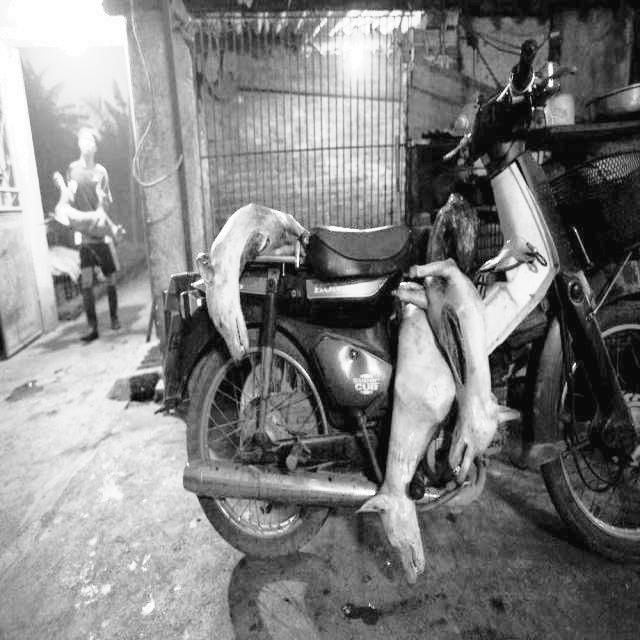Motorcycle: (153, 3, 640, 624)
